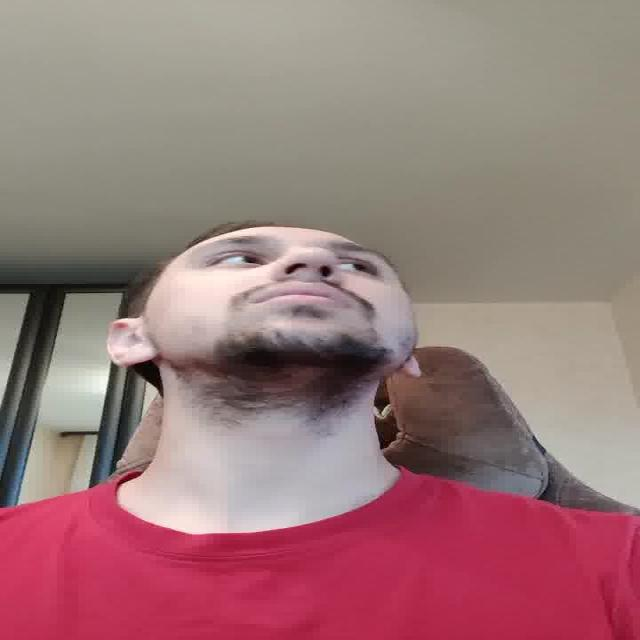earlobe: (107, 318, 151, 368)
